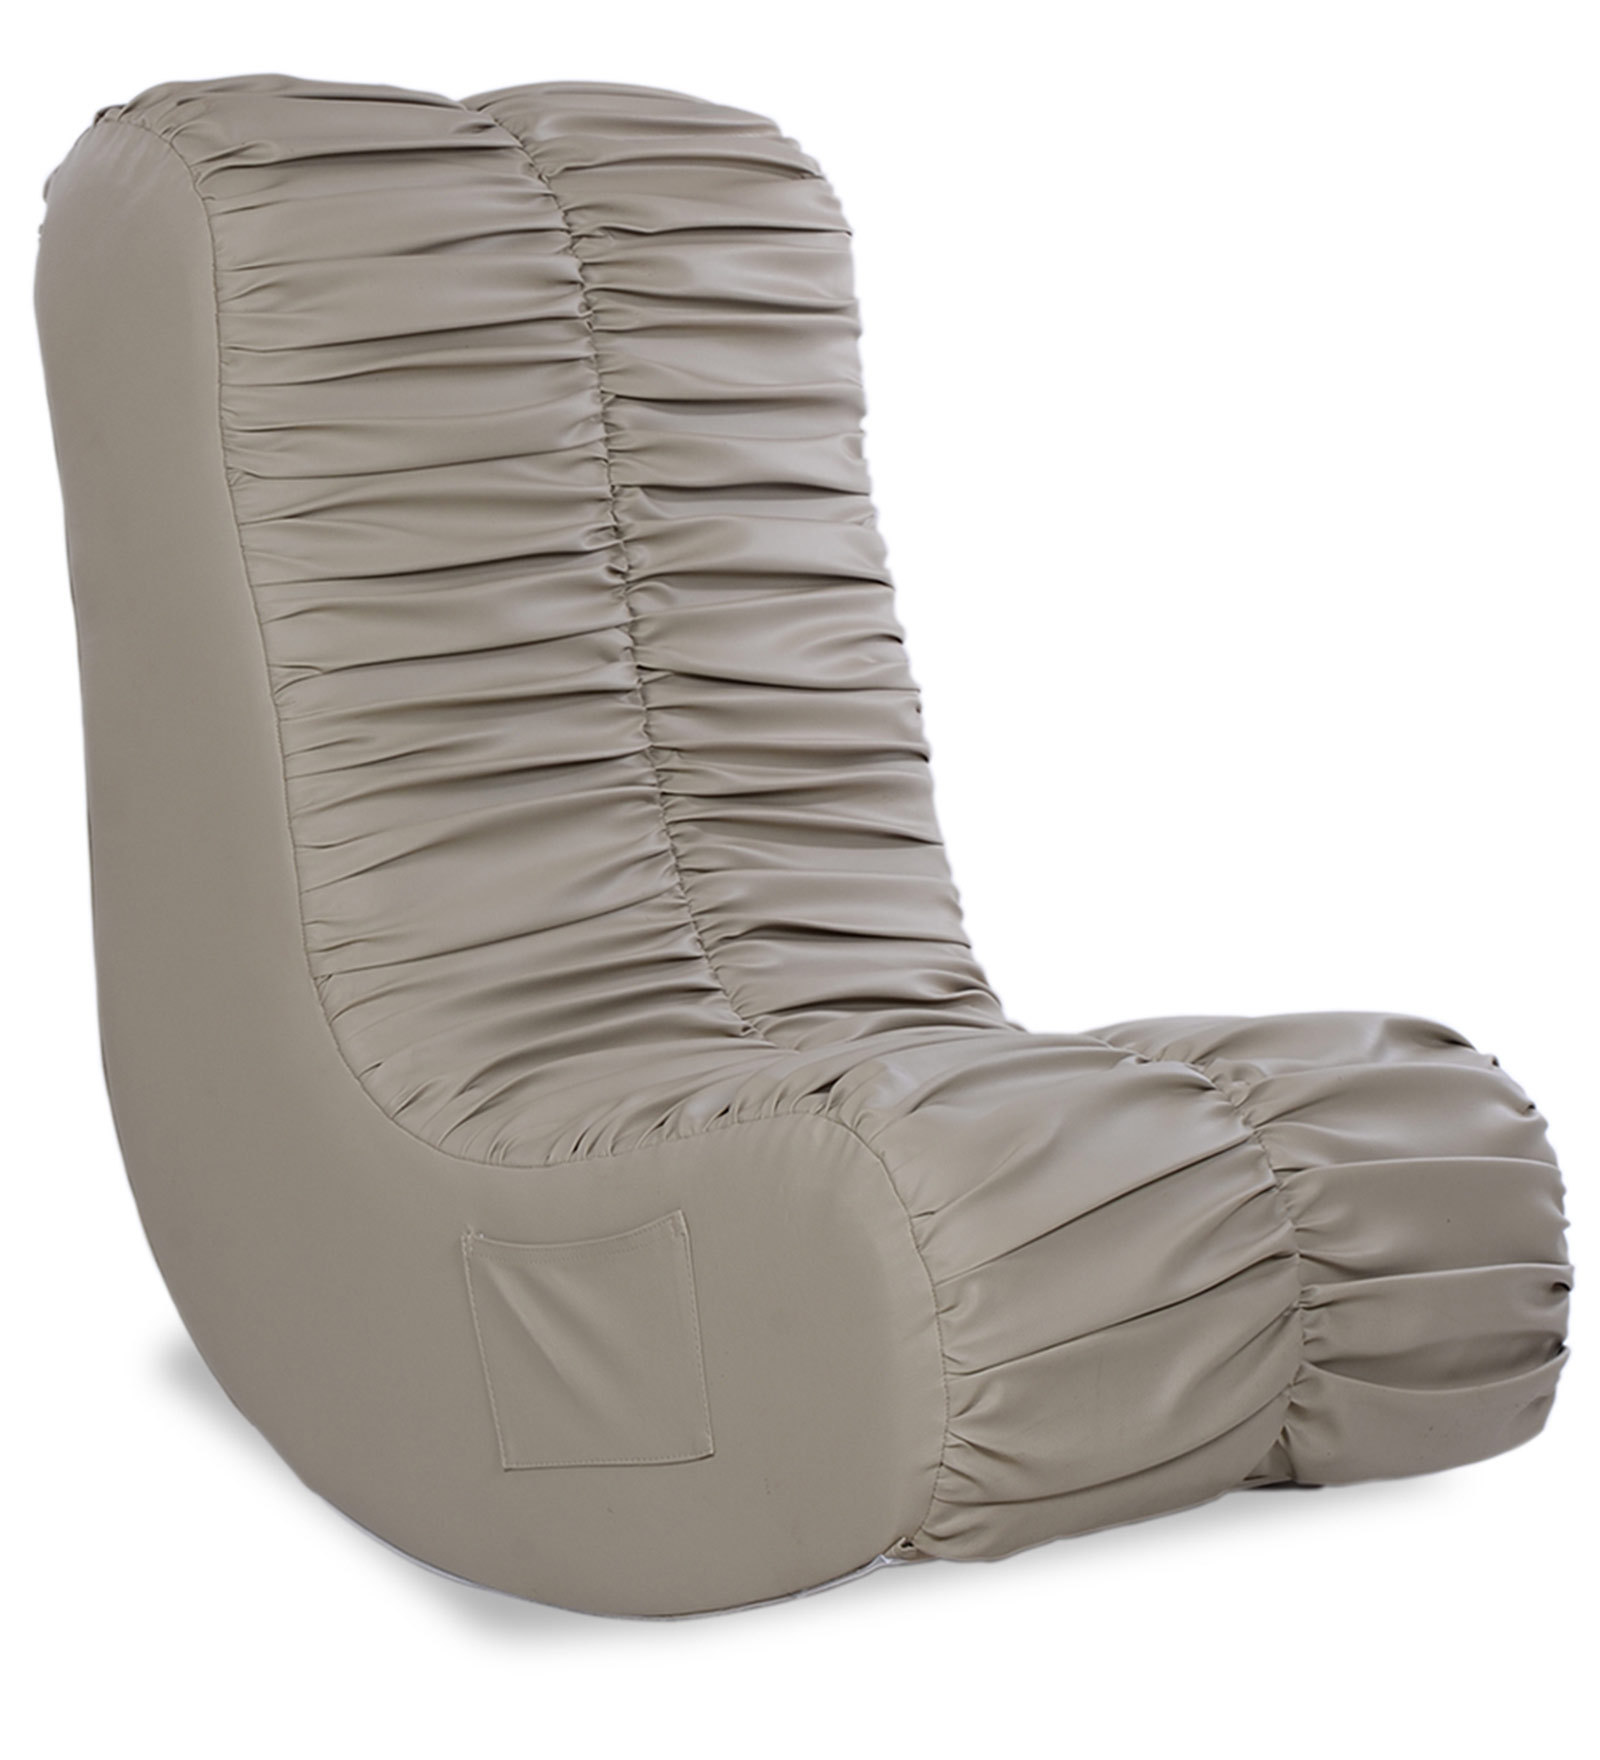Low Seat Rocking Chair in Beige Leatherette by Durian: (34, 63, 1572, 1619)
